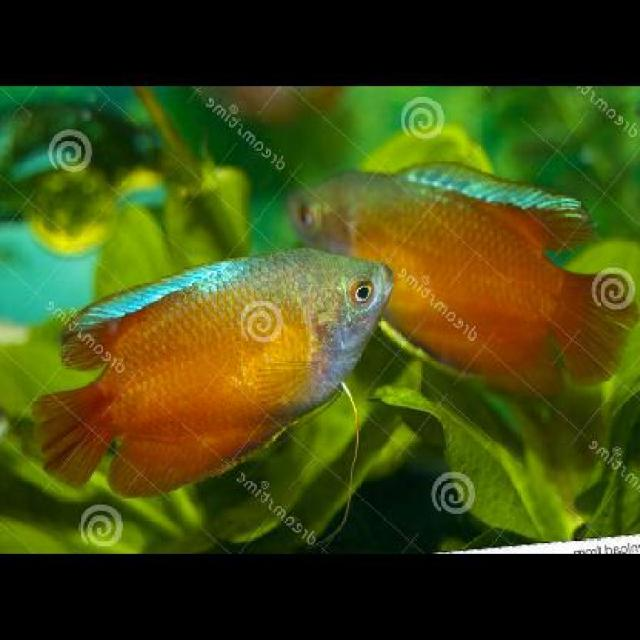Gourami: (42, 250, 388, 496), (286, 165, 639, 388)
